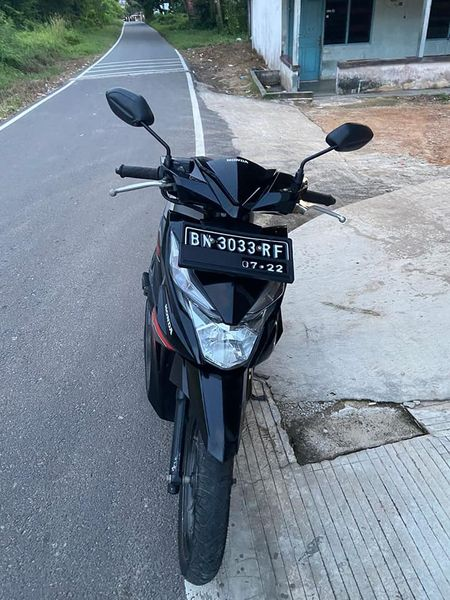plate: (183, 224, 297, 287)
